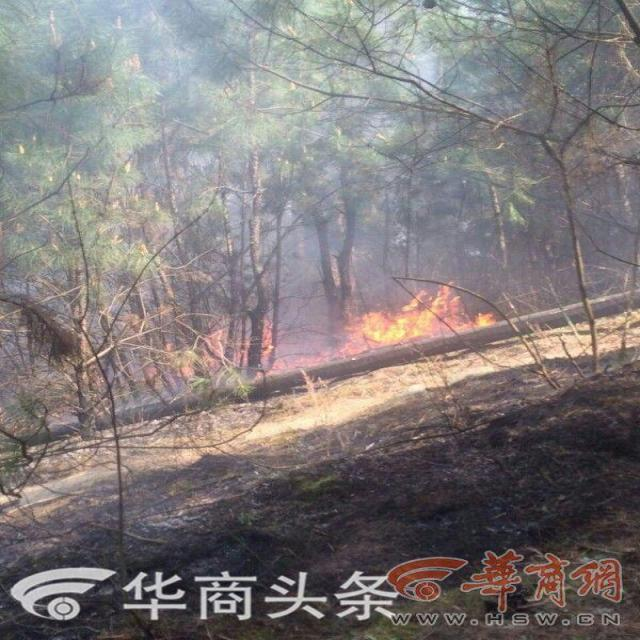fire: (340, 284, 496, 358)
smoke: (1, 2, 508, 274)
